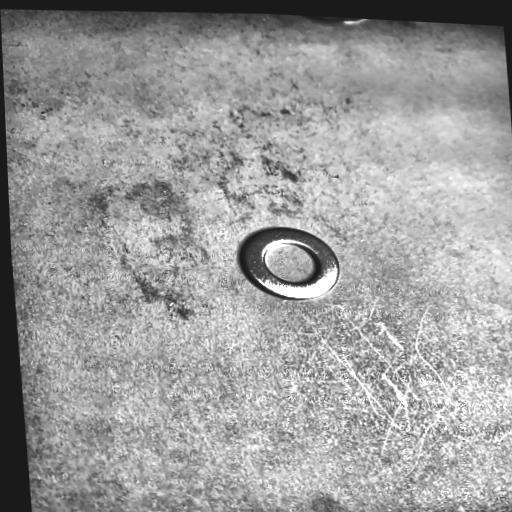Washer: (237, 226, 341, 301)
